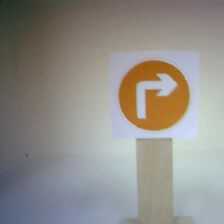right: (110, 49, 196, 140)
